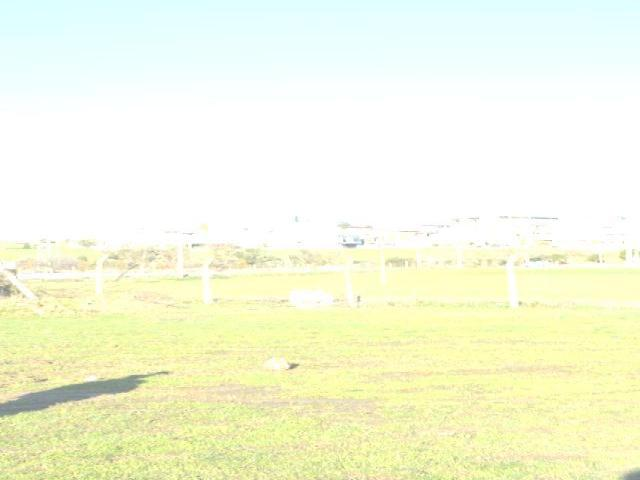iha: (160, 218, 244, 230)
